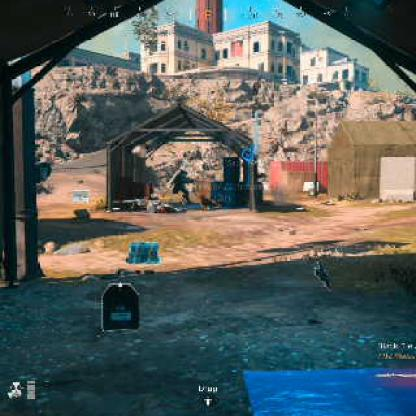enemy: (170, 167, 195, 202)
